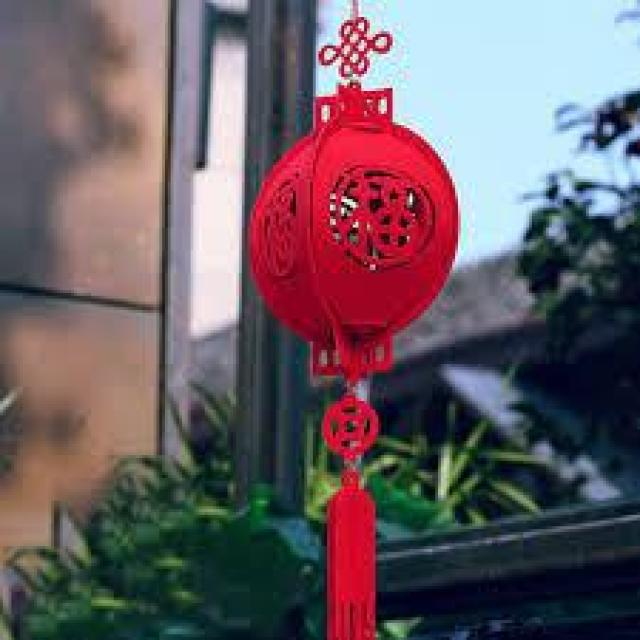other: (251, 80, 451, 398)
